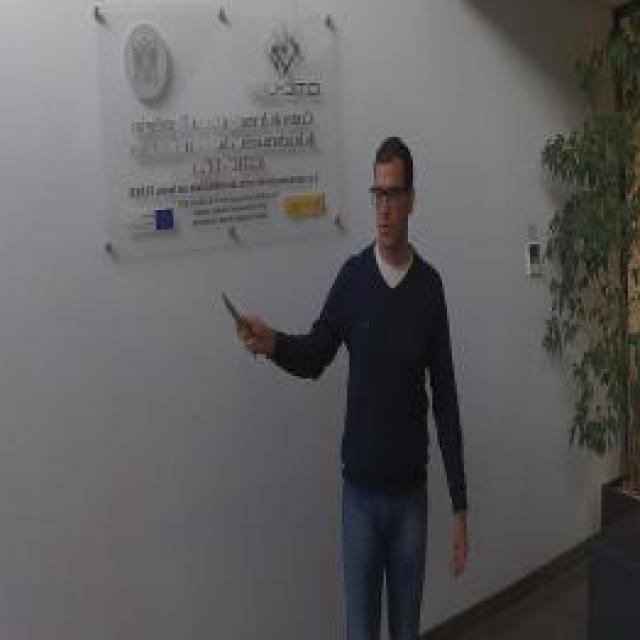knife: (219, 281, 261, 361)
